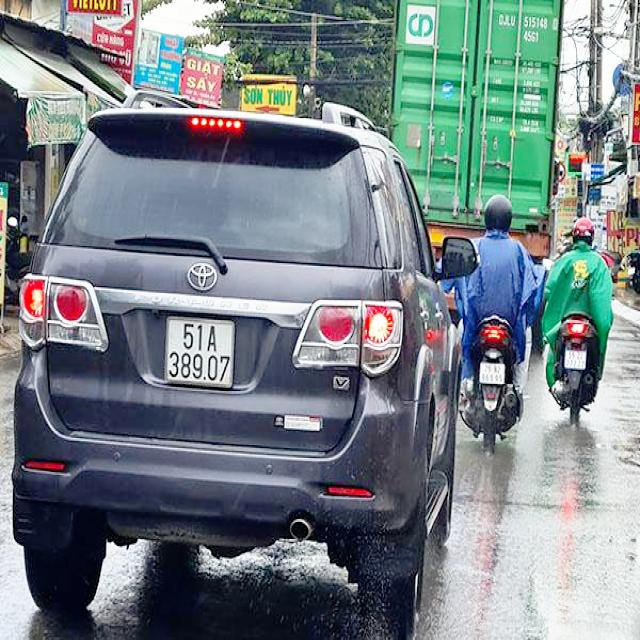license_plate: (168, 318, 234, 387), (480, 361, 506, 386), (566, 348, 586, 372)
